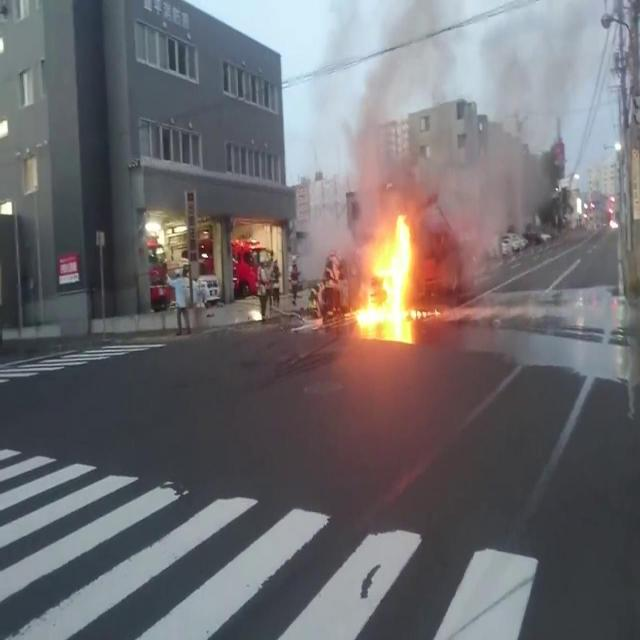Fire: (350, 215, 440, 323)
